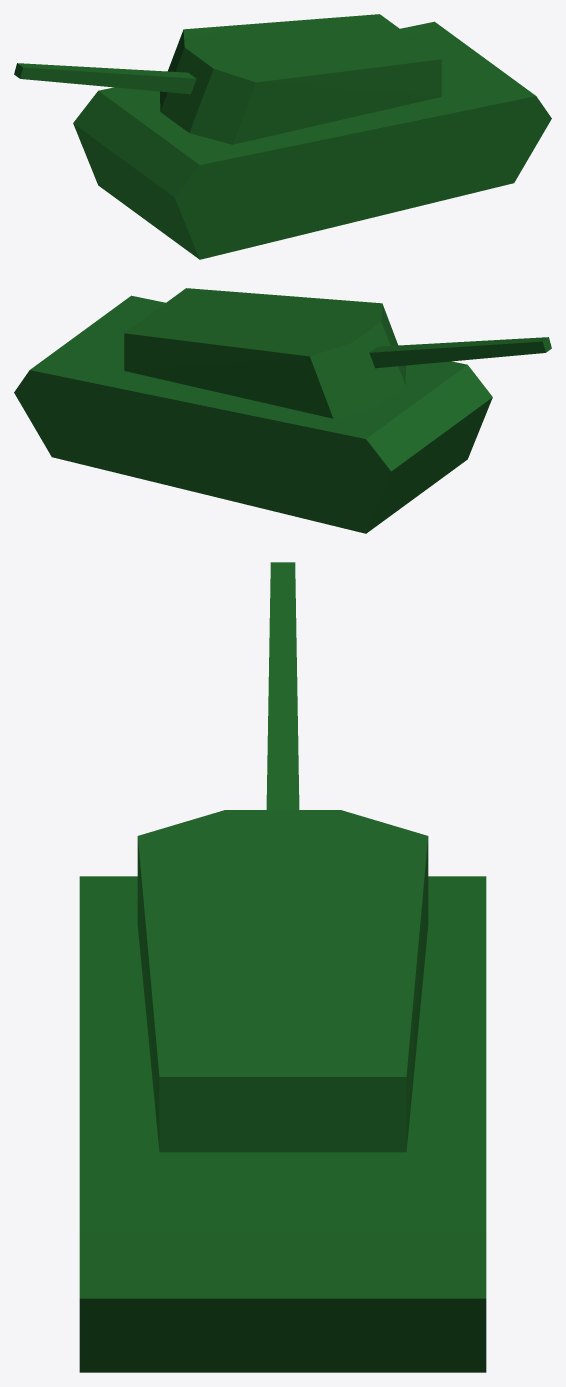
The model's file is tank_v1.fbx.
3 views of the same model, one above another, from view 1: azimuth 30°, elevation 25°; view 2: azimuth 150°, elevation 25°; view 3: azimuth 270°, elevation 25° (orthographic). The views are drawn at different scales.
Parts seen in each view (by area): view 1: Box001, Box002; view 2: Box001, Box002; view 3: Box001, Box002.
Boxes of the visible parts, x1,y1,x2,y2 form: Box001: (73, 14, 551, 259); Box002: (14, 63, 196, 94); Box001: (14, 288, 492, 533); Box002: (369, 337, 551, 368); Box001: (79, 810, 486, 1372); Box002: (266, 562, 299, 809).
Size of the model in its own units: 9.62 by 3.59 by 3.5.
